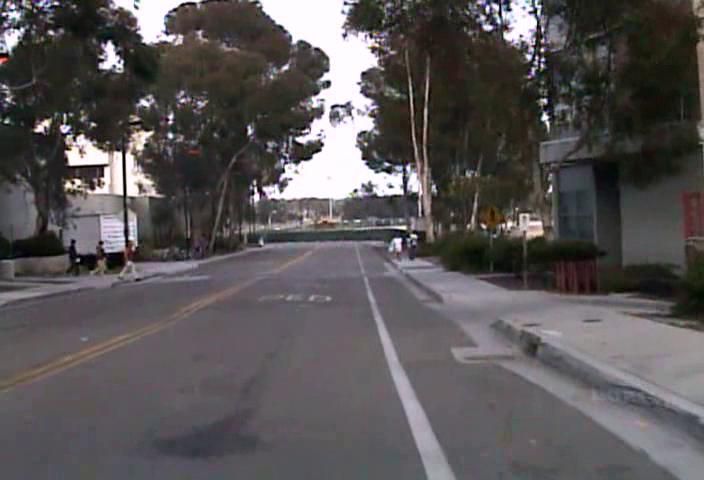pedestrianCrossing: (480, 201, 504, 232)
